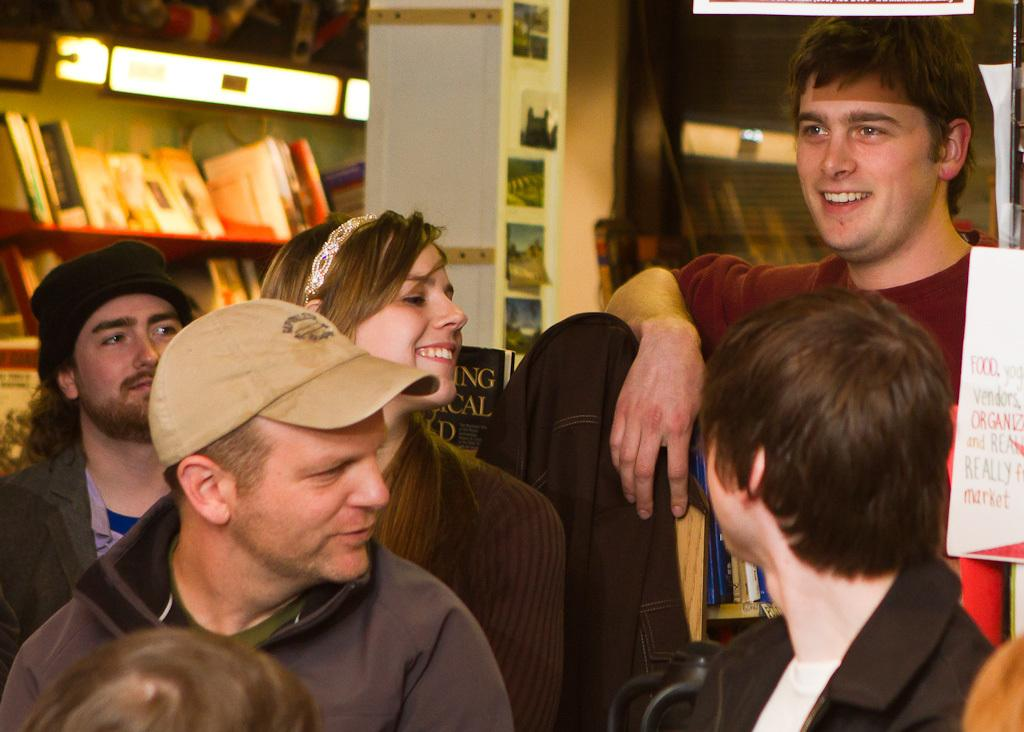Hat: (150, 294, 442, 472)
